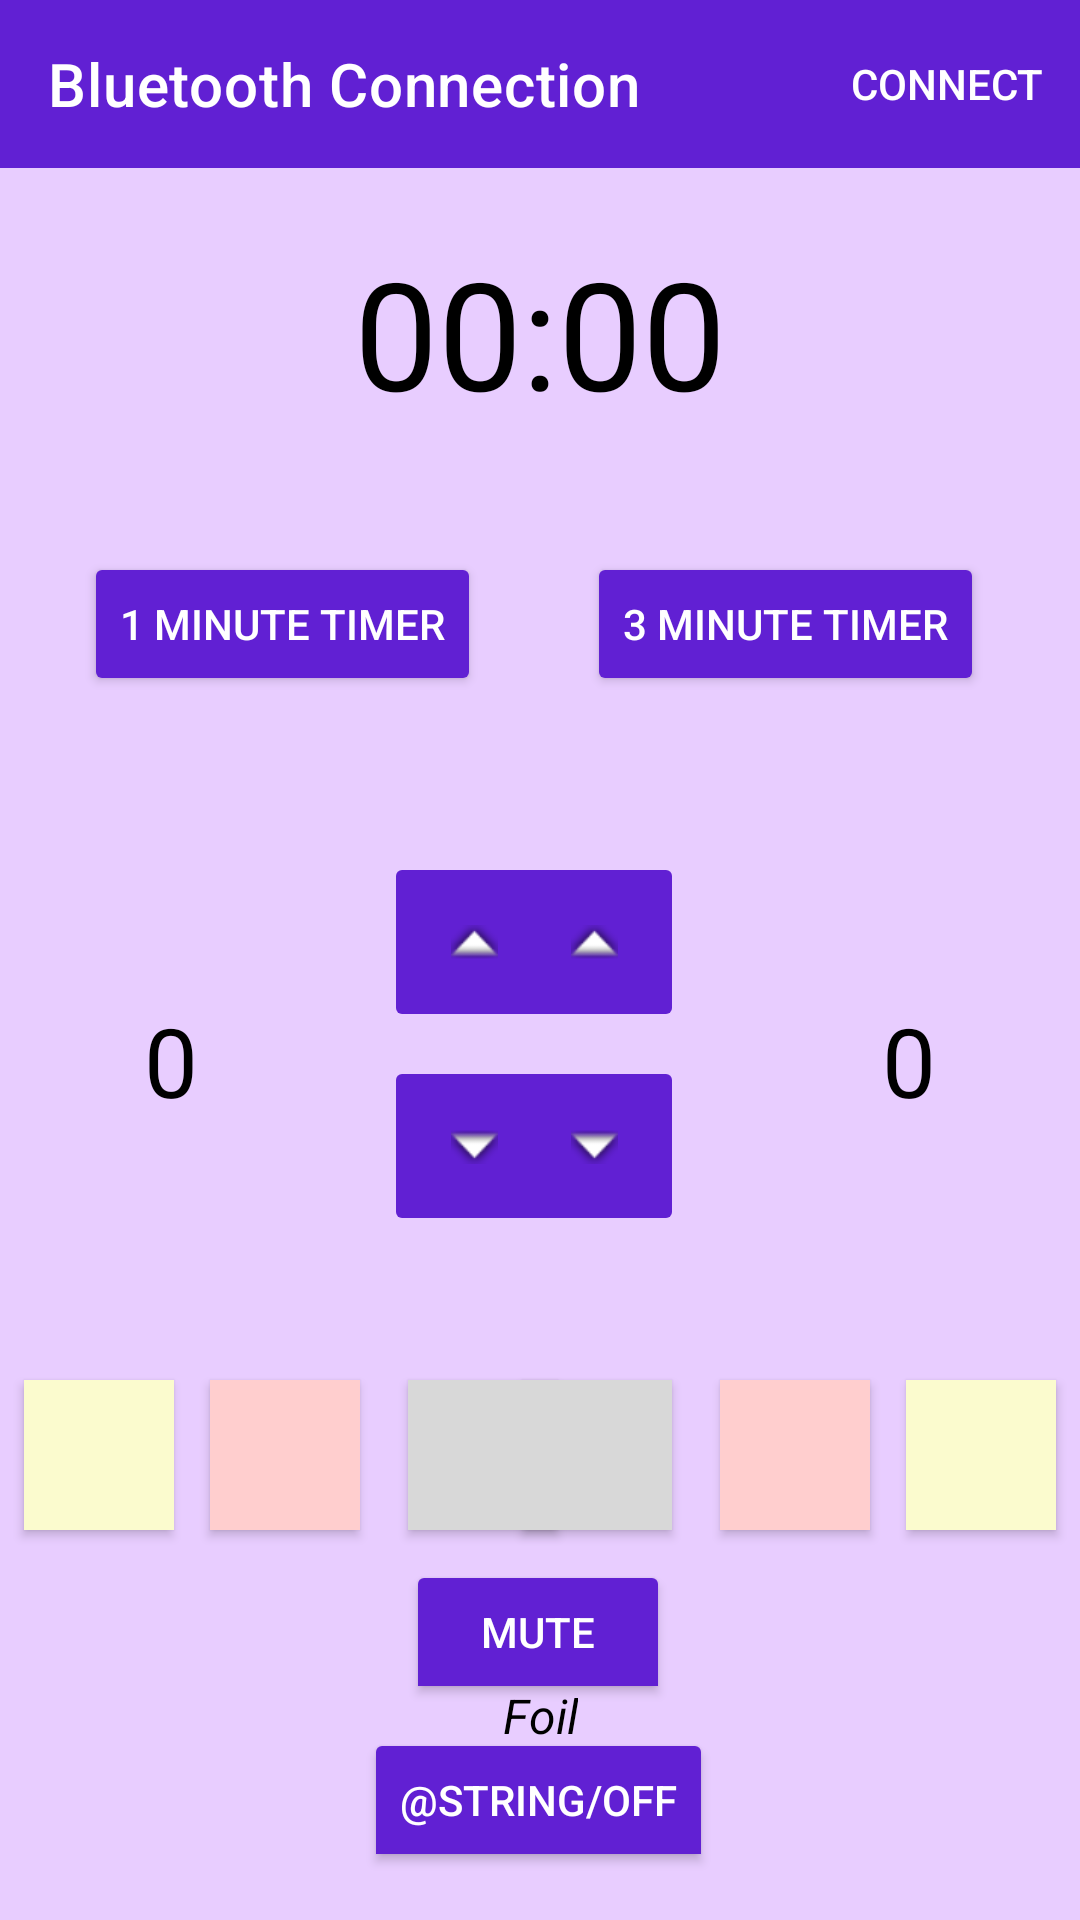

Where icons sit on this 1080w x 1920h app screen, as (x1, y1, x2, y2):
decrement1: (396, 1074, 564, 1218)
decrement2: (504, 1074, 672, 1218)
increment1: (396, 870, 564, 1014)
increment2: (504, 870, 672, 1014)
